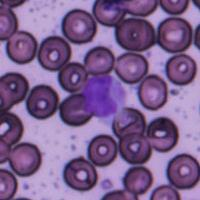M: (81, 74, 127, 120)
